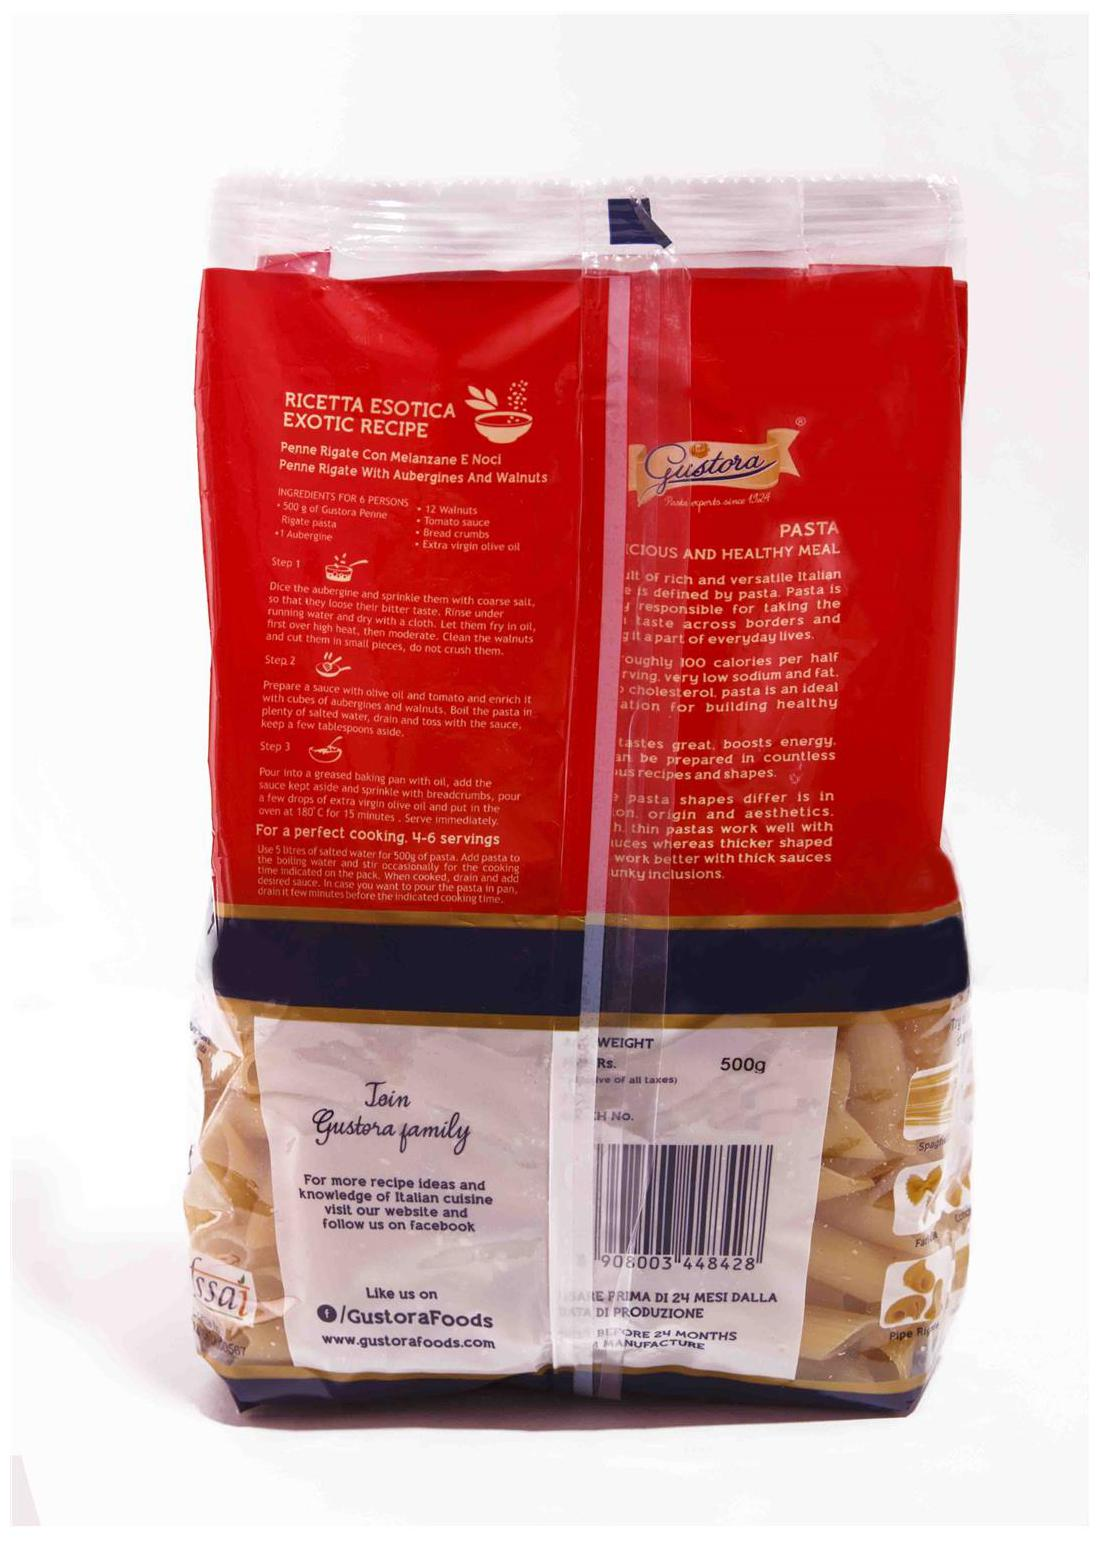fssai: (193, 1259, 249, 1321)
